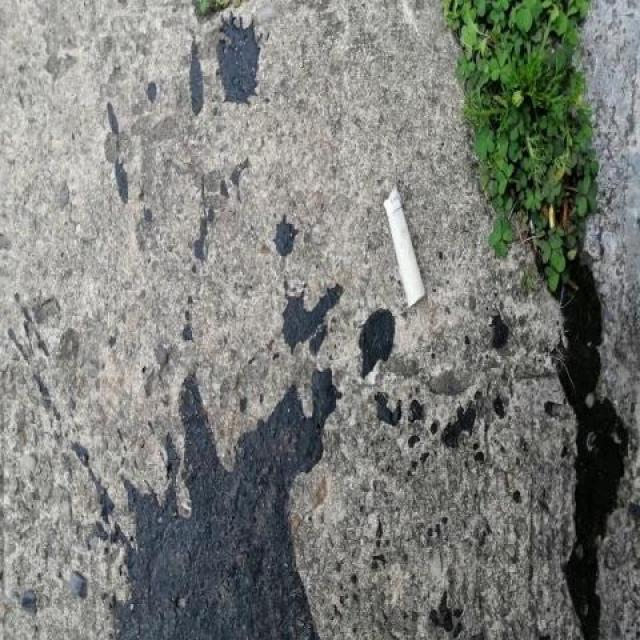non-organic waste: (378, 178, 431, 313)
